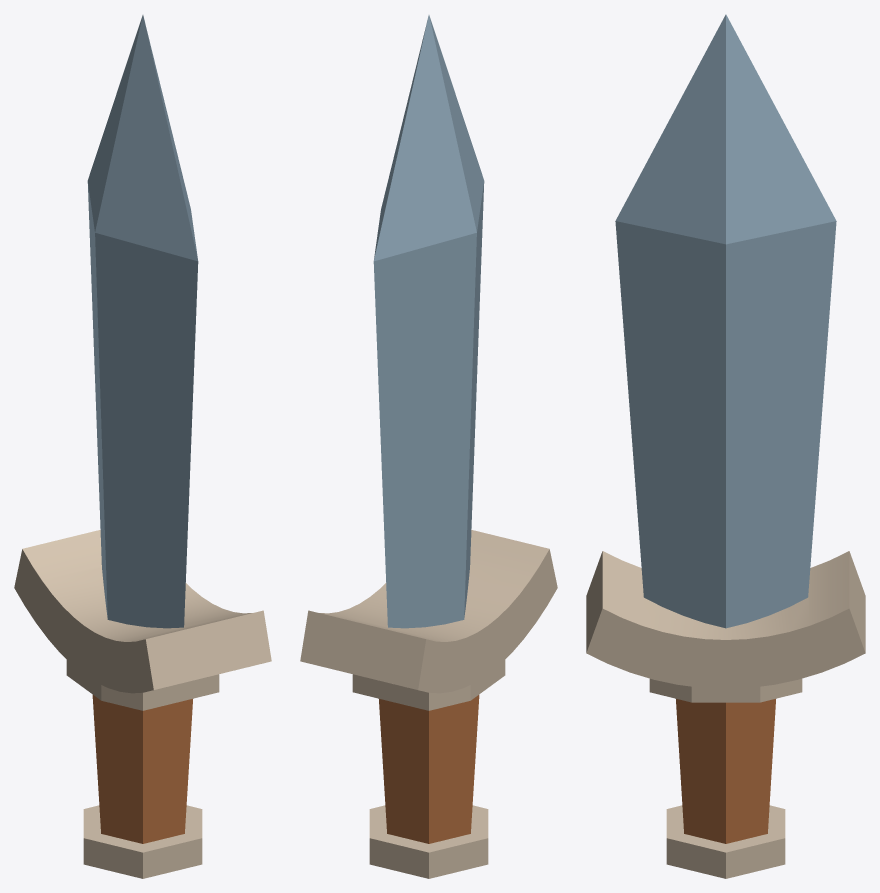
File: sword.fbx
3 views of the same model, side by side, from view 1: azimuth 30°, elevation 25°; view 2: azimuth 150°, elevation 25°; view 3: azimuth 270°, elevation 25° (orthographic).
Parts seen in each view (by area): view 1: sword; view 2: sword; view 3: sword.
Part boxes in pixels (x1,y1,x2,y2): sword: (14,15,271,878); sword: (300,15,557,878); sword: (586,14,865,878).
Size of the model in its own units: 0.7952 by 5.35 by 1.62.
